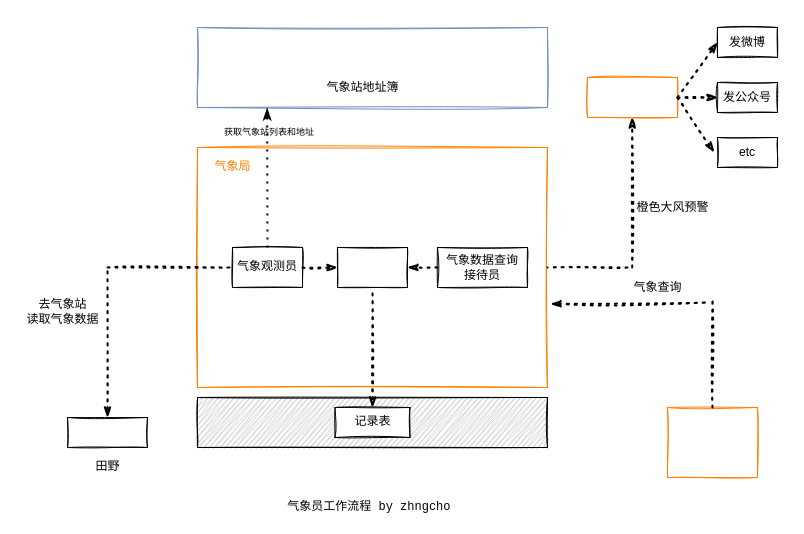
Image size: 804x534. Some labels were removed from this diagram. The shapes that lost their labels are listed below. From the top down, each one's centre as x and y in pixels, then its label:
the point at 632,97: 预警机构
the point at 372,267: 气象数据 保管员
the point at 107,432: 气象站
the point at 712,442: 其他需要气象数据的组织
